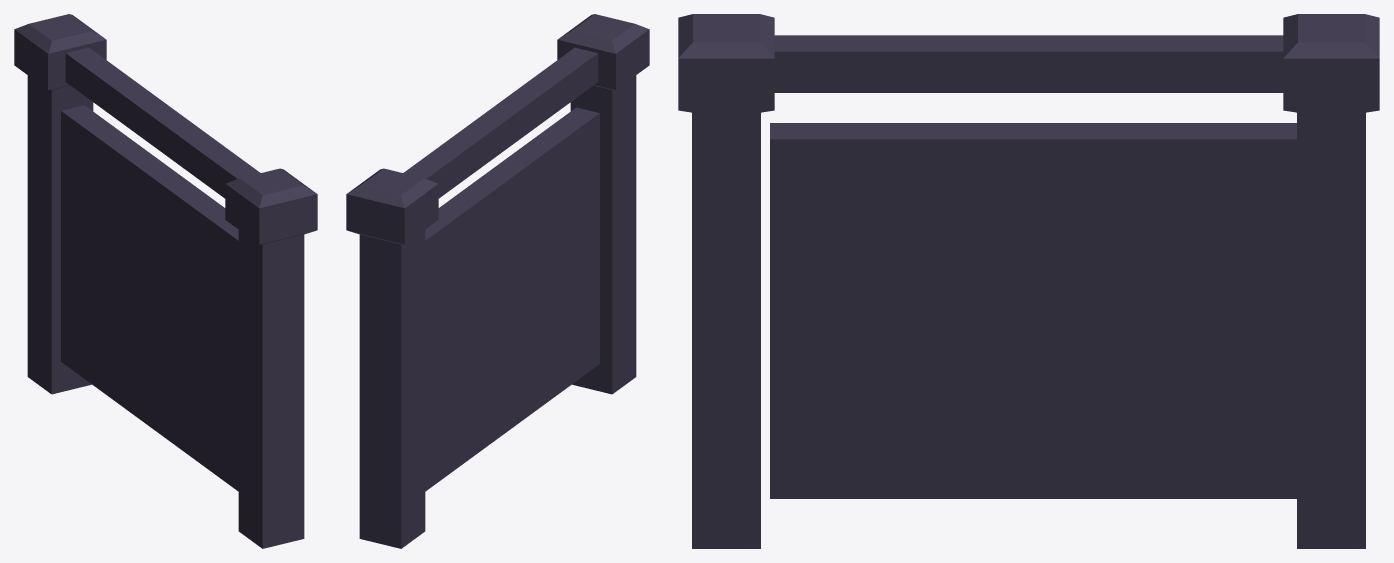
The model's file is Railing2.fbx.
3 renders of one model, left to right at view 1: azimuth 30°, elevation 25°; view 2: azimuth 150°, elevation 25°; view 3: azimuth 270°, elevation 25°, orthographic. The views are drawn at different scales.
Visible parts, largest first — view 1: Fence; view 2: Fence; view 3: Fence.
Part boxes in pixels (bbox=[...]): Fence: bbox=[14, 14, 317, 548]; Fence: bbox=[346, 14, 649, 548]; Fence: bbox=[678, 14, 1379, 548].
Size of the model in its own units: 37.45 by 217 by 272.
